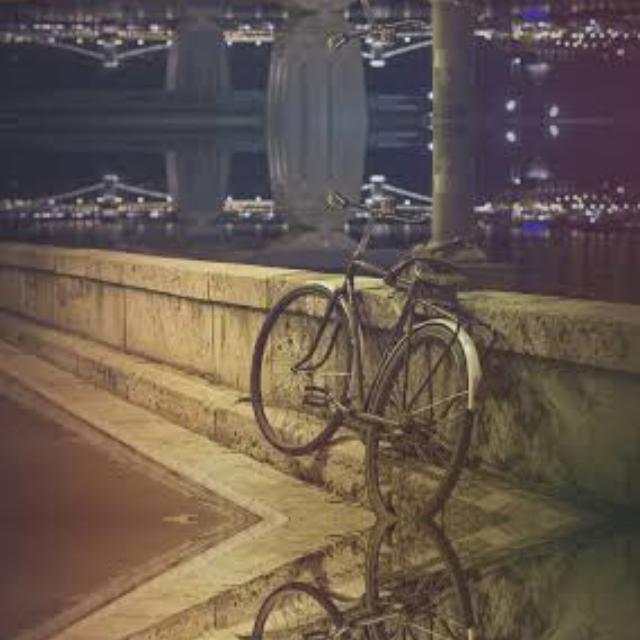obstacle: (254, 182, 492, 516), (254, 522, 491, 640), (254, 0, 491, 57)
